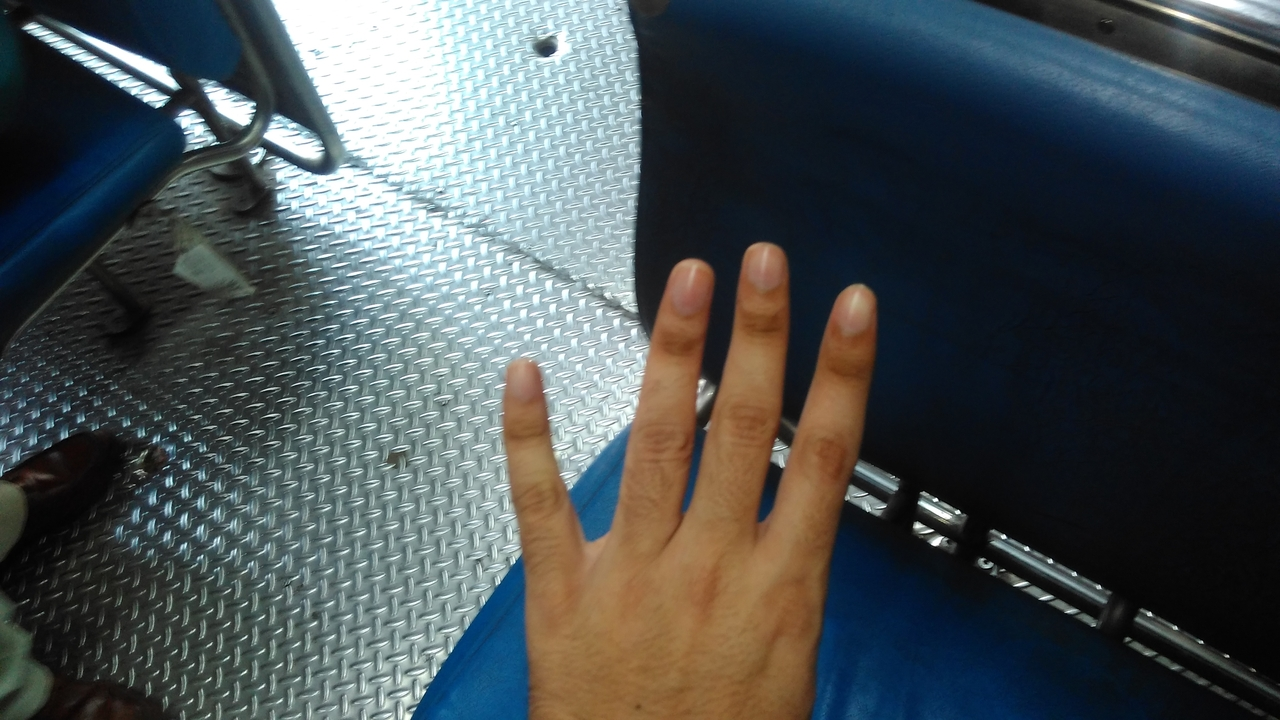fingertip: (822, 278, 890, 342), (732, 238, 800, 300), (658, 254, 720, 312), (496, 354, 554, 412)
